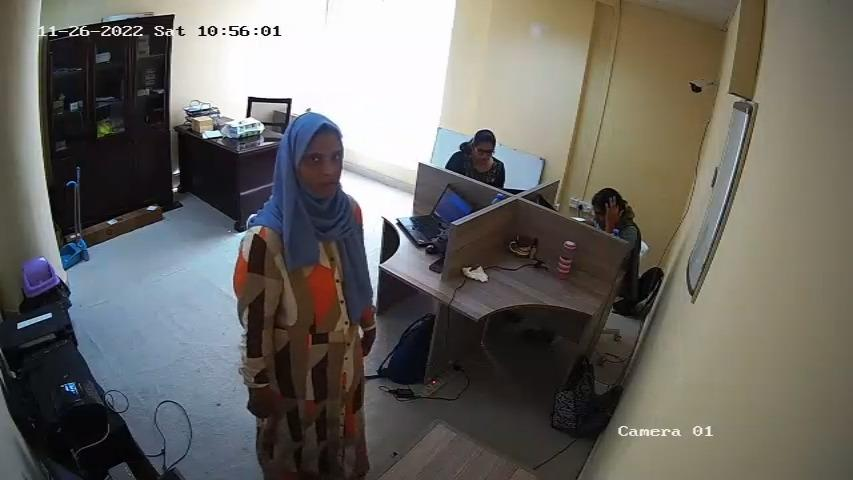no_apron: (272, 231, 364, 452)
